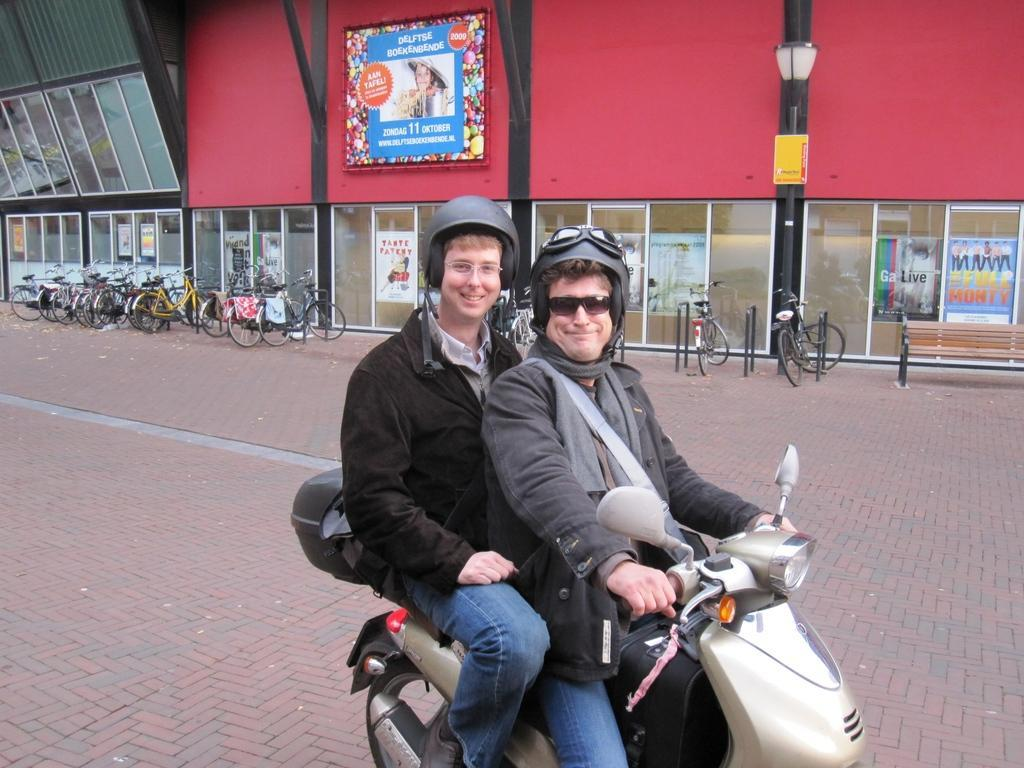helmet: (528, 224, 632, 364), (419, 194, 522, 321)
